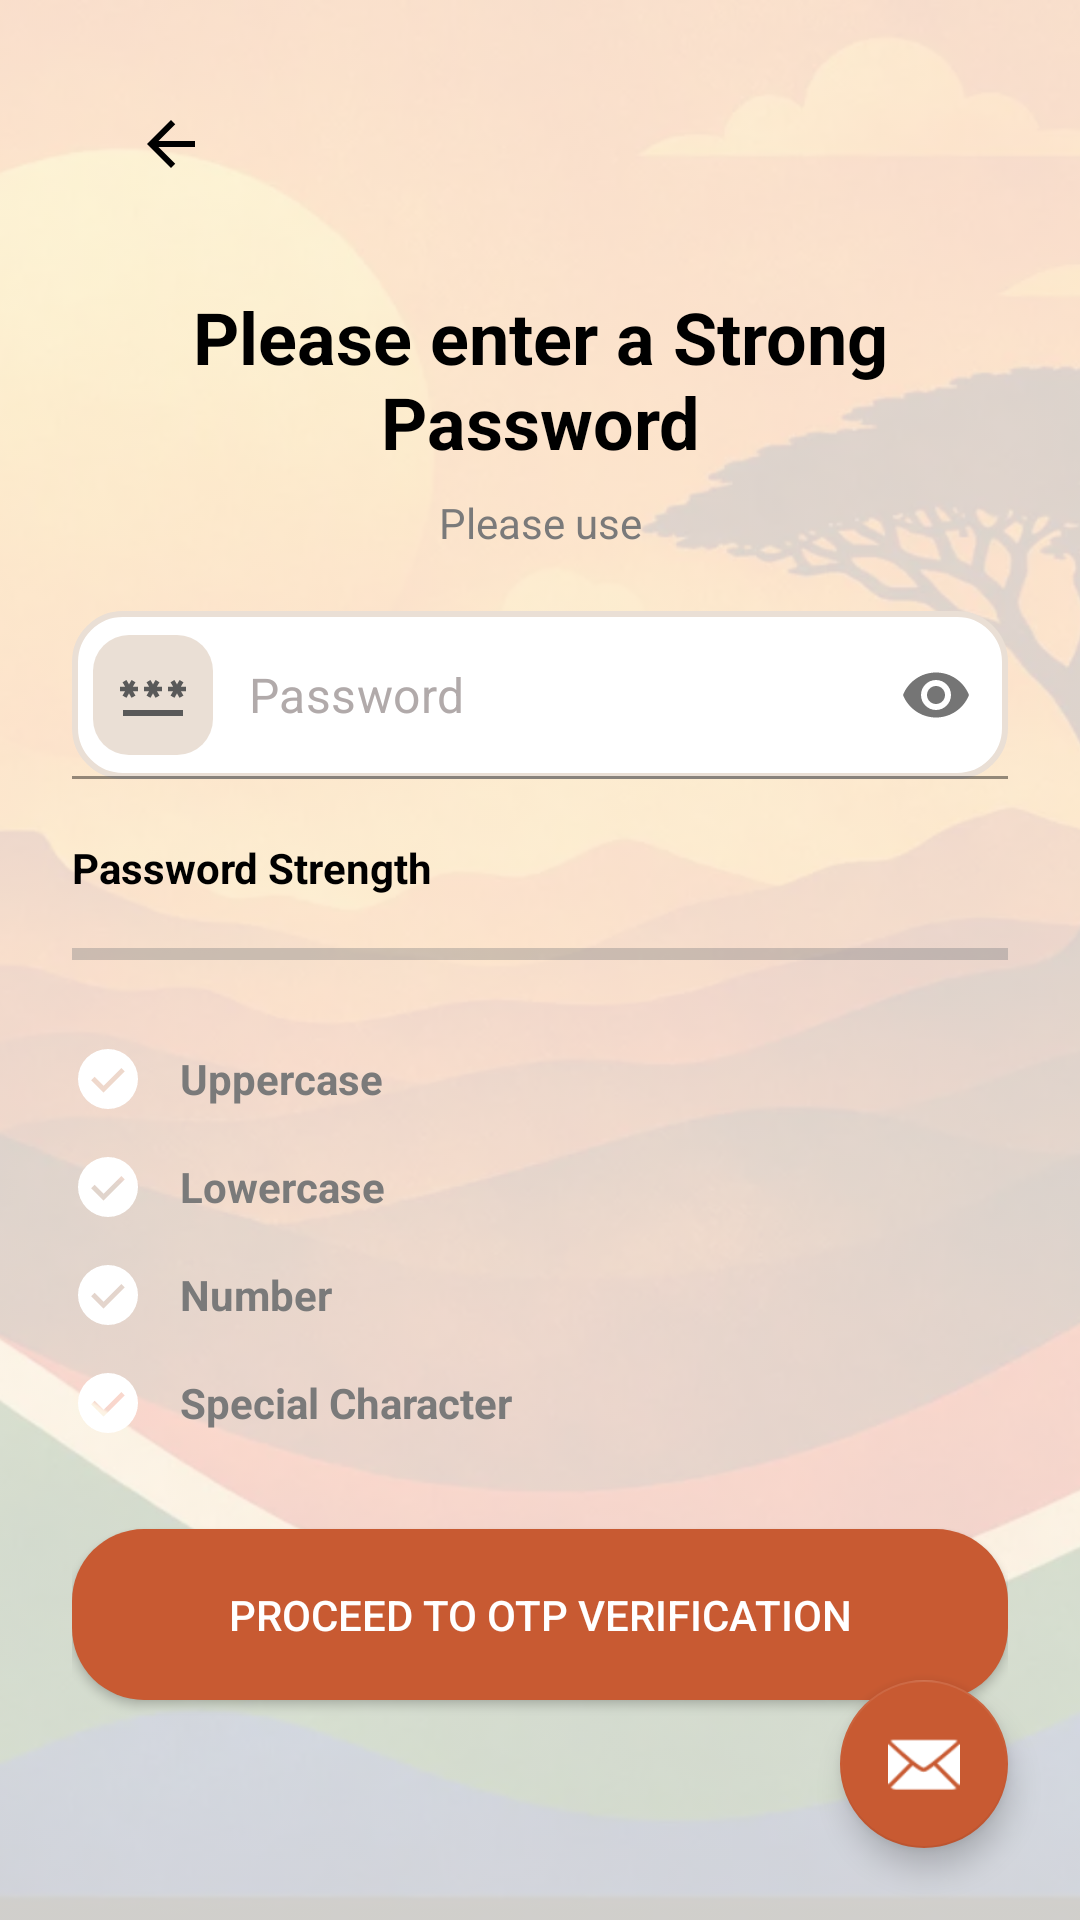

Where to tap for icons on this 1080 x 1920 app screen, as point (x, y):
Chat with us: point (924, 1764)
checker marker: point (108, 1079), point (108, 1187), point (108, 1295), point (108, 1403)
Go Back to previous screen: point (171, 144)
